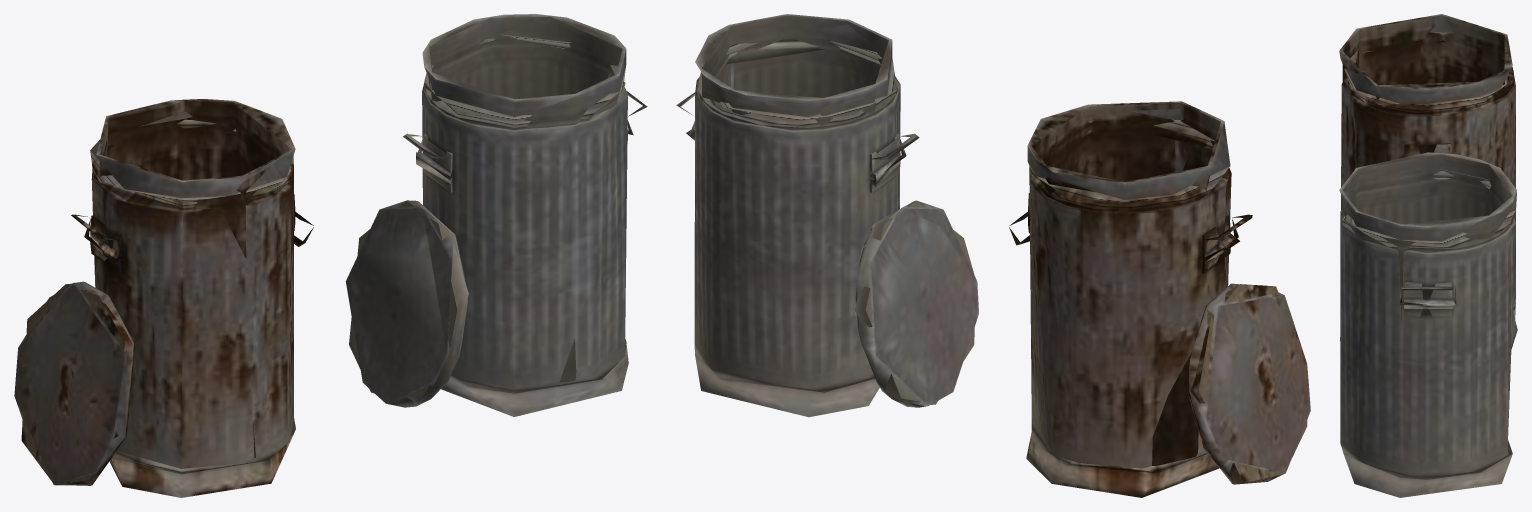
File: metal_trash_can.glb
3 views of the same model, side by side, from view 1: azimuth 30°, elevation 25°; view 2: azimuth 150°, elevation 25°; view 3: azimuth 270°, elevation 25° (orthographic). The views are drawn at different scales.
Parts seen in each view (by area): view 1: metal_trash_can, metal_trash_can_rust, metal_trash_can_lid, metal_trash_can_rust_lid; view 2: metal_trash_can, metal_trash_can_rust, metal_trash_can_lid, metal_trash_can_rust_lid; view 3: metal_trash_can, metal_trash_can_rust, metal_trash_can_handle_right.
Part boxes in pixels (<box>): metal_trash_can: <box>416,14,628,416</box>; metal_trash_can_rust: <box>90,99,295,497</box>; metal_trash_can_lid: <box>345,200,468,407</box>; metal_trash_can_rust_lid: <box>14,281,134,485</box>; metal_trash_can: <box>686,14,900,417</box>; metal_trash_can_rust: <box>1026,101,1239,497</box>; metal_trash_can_lid: <box>854,200,978,407</box>; metal_trash_can_rust_lid: <box>1187,283,1310,484</box>; metal_trash_can: <box>1339,152,1516,497</box>; metal_trash_can_rust: <box>1339,14,1515,319</box>; metal_trash_can_handle_right: <box>1399,286,1456,304</box>.
Bounding box in the file's own units: 1.77 × 0.9062 × 0.5402.
3 materials, 3 textured.
